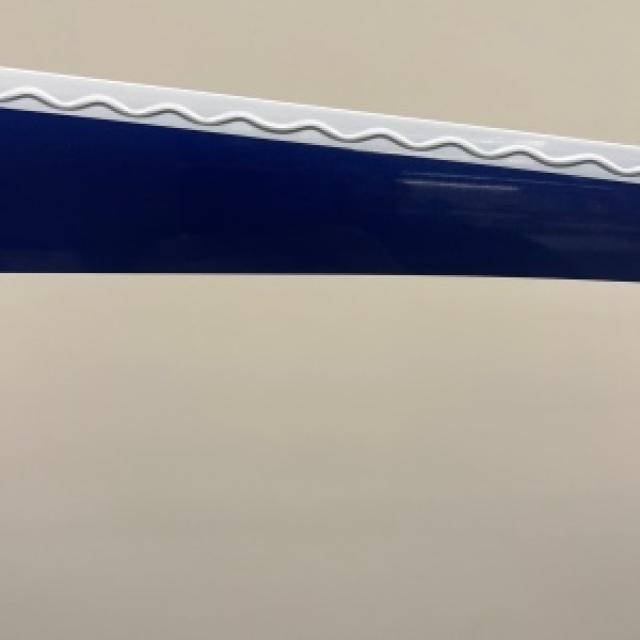healthy: (0, 68, 638, 638), (0, 68, 638, 275)
